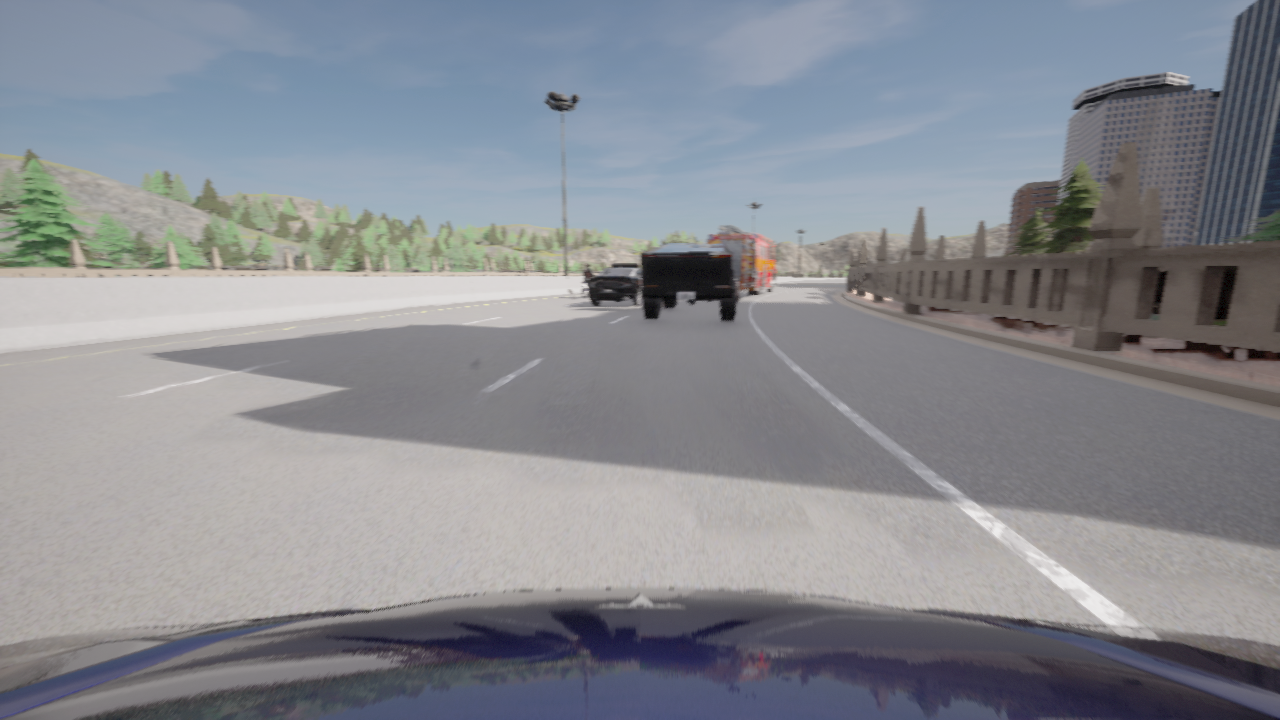cyclist: (0, 588, 1279, 719), (641, 244, 737, 321), (707, 226, 780, 295), (589, 264, 642, 305), (686, 277, 741, 303), (582, 284, 588, 294)
